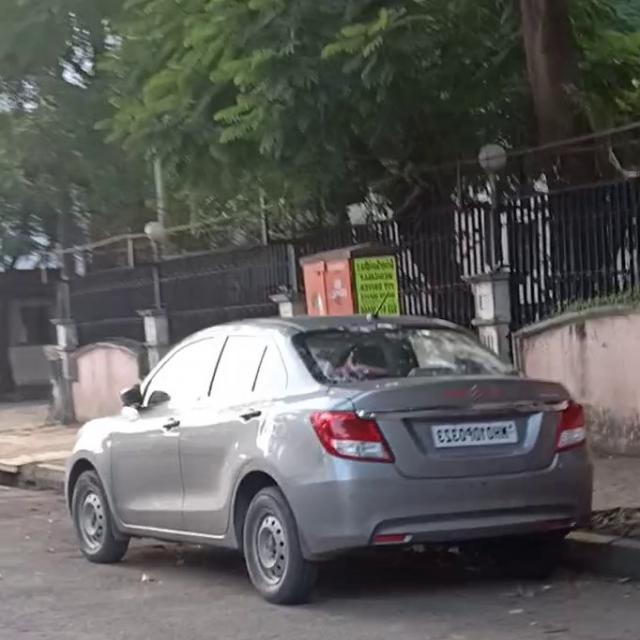license_plate: (425, 415, 522, 454)
